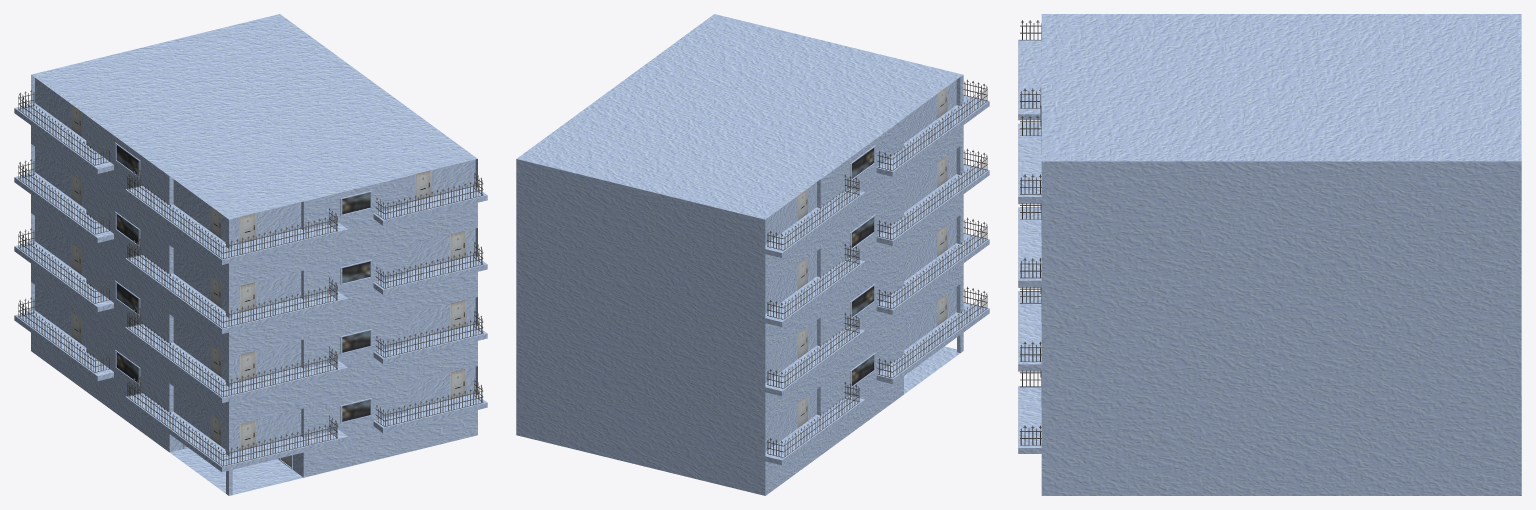
File: Ext Build 1.obj
The picture shows the model from 3 angles, left to right: view 1: azimuth 30°, elevation 25°; view 2: azimuth 150°, elevation 25°; view 3: azimuth 270°, elevation 25°; orthographic projection. The views are drawn at different scales.
Parts seen in each view (by area): view 1: Exterior_Building_1_Plane; view 2: Exterior_Building_1_Plane; view 3: Exterior_Building_1_Plane.
Part boxes in pixels (bbox=[...]): Exterior_Building_1_Plane: bbox=[14, 14, 487, 495]; Exterior_Building_1_Plane: bbox=[516, 14, 989, 495]; Exterior_Building_1_Plane: bbox=[1018, 14, 1521, 495].
Bounding box in the file's own units: 32.19 × 32 × 43.58.
1 material, 1 textured.
